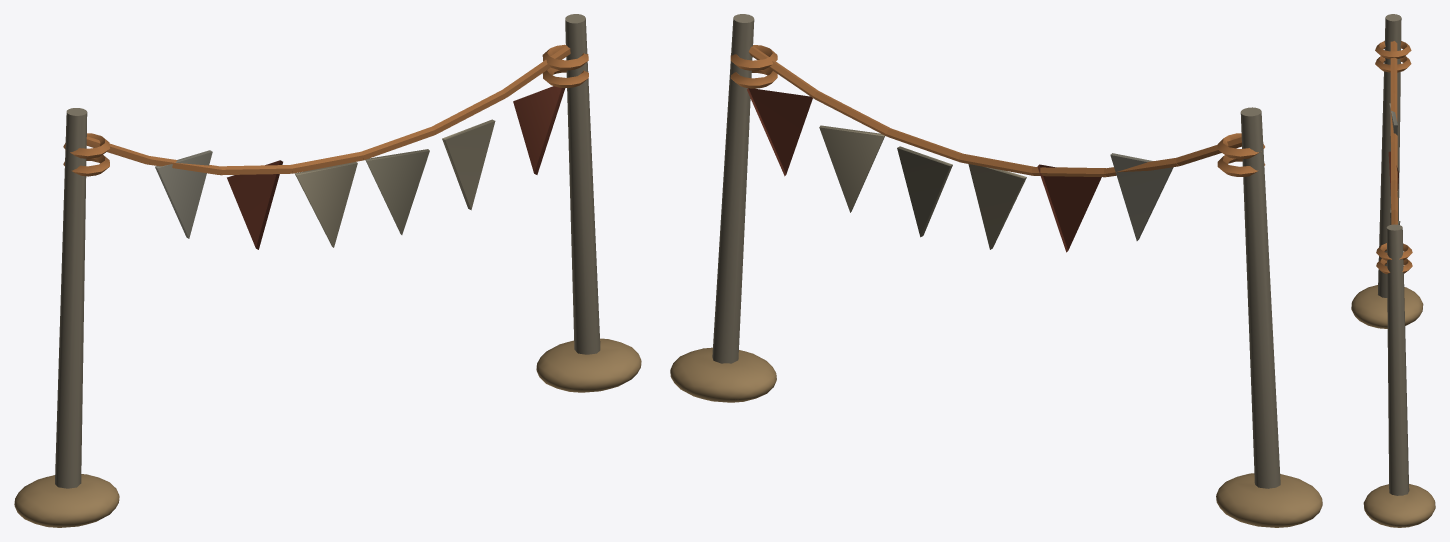
File: keeper_bunting_b_lod1.glb
3 views of the same model, side by side, from view 1: azimuth 30°, elevation 25°; view 2: azimuth 150°, elevation 25°; view 3: azimuth 270°, elevation 25° (orthographic). The views are drawn at different scales.
Visible parts, largest first — view 1: Surface.001; view 2: Surface.001; view 3: Surface.001.
Part boxes in pixels (left/top/right/bottom): Surface.001: left=14, top=14, right=641, bottom=527; Surface.001: left=670, top=14, right=1322, bottom=527; Surface.001: left=1351, top=14, right=1435, bottom=527.
Size of the model in its own units: 4.48 by 2.76 by 0.6814.
